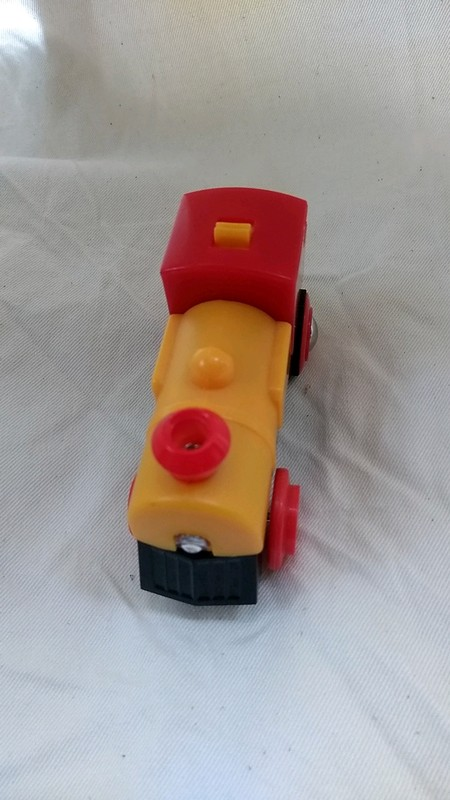brio: (122, 178, 323, 608)
